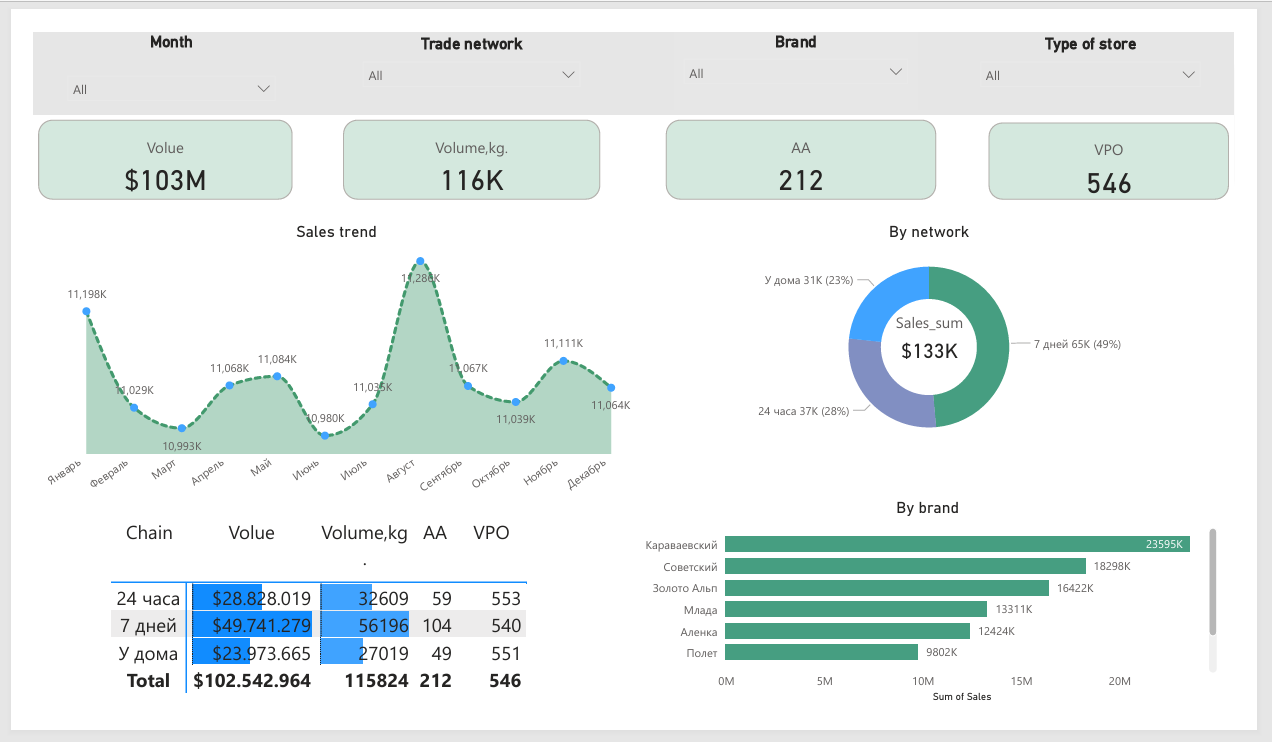

The dashboard page shown, as its layout file describes it:
{"tool":"powerbi","page":{"name":"Страница 1","canvas":[1280,720],"ordinal":0},"visuals":[{"type":"donutChart","title":"По сетям","fields":{"Category":["Customer.Chain"],"Y":["CountNonNull(Sales.Q-ty)"]},"box":[693.5,202.8,522.6,248.8],"z":0},{"type":"areaChart","title":"Тренд продаж","fields":{"Category":["Calendar.Date.Изменение.Иерархия дат.Месяц"],"Y":["CountNonNull(Sales.Sales)"]},"box":[4.9,203.3,636.1,309.3],"z":1000},{"type":"shape","box":[0,1,1280,87.5],"z":2000},{"type":"slicer","title":"Месяц","fields":{"Values":["Calendar.Date.Изменение.Иерархия дат.Месяц"]},"box":[26.3,0,242.2,80.7],"z":3000},{"type":"slicer","title":"Торговая сеть","fields":{"Values":["Customer.Chain"]},"box":[341.4,2.9,251.9,80.7],"z":4000},{"type":"slicer","title":"Тип магазина","fields":{"Values":["Customer.Type"]},"box":[998.9,2.9,254.8,80.7],"z":5000},{"type":"slicer","title":"Бренд ","fields":{"Values":["Products.Brand"]},"box":[682.8,0,259.7,83.6],"z":6000},{"type":"barChart","title":"По брендам","fields":{"Category":["Products.Brand"],"Y":["Sum(Sales.Sales)"]},"box":[640,497,626.4,223.7],"z":7000},{"type":"cardVisual","fields":{"Data":["Measure.Value"]},"box":[0,89.5,281.1,95.3],"z":8000},{"type":"cardVisual","fields":{"Data":["Measure.AA"]},"box":[669.2,89.5,298.6,95.3],"z":9000},{"type":"cardVisual","fields":{"Data":["Measure.VPO"]},"box":[1013.5,92.4,266.5,92.4],"z":10000},{"type":"cardVisual","fields":{"Data":["Measure.Volume,кг."]},"box":[324.9,88.5,285,95.3],"z":12000},{"type":"cardVisual","fields":{"Data":["Measure.Sales_sum"]},"box":[887.1,282.1,136.2,89.5],"z":12001},{"type":"pivotTable","fields":{"Rows":["Customer.Chain"],"Values":["Measure.Volue","Measure.Volume,кг.","Measure.AA","Measure.VPO"]},"box":[77.8,512.6,495.1,198.4],"z":12002}]}

Visuals, with their boxes on the page's 1280x720 design canvas (x1, y1, x2, y2). These are canvas units, not pixel positions in the 1272x742 screenshot, which may show the page scaled, cropped or inside an application window:
"По сетям" donutChart: left=694, top=203, right=1216, bottom=452
"Тренд продаж" areaChart: left=5, top=203, right=641, bottom=513
shape: left=0, top=1, right=1280, bottom=88
"Месяц" slicer: left=26, top=0, right=268, bottom=81
"Торговая сеть" slicer: left=341, top=3, right=593, bottom=84
"Тип магазина" slicer: left=999, top=3, right=1254, bottom=84
"Бренд " slicer: left=683, top=0, right=942, bottom=84
"По брендам" barChart: left=640, top=497, right=1266, bottom=721
cardVisual - Measure.Value: left=0, top=90, right=281, bottom=185
cardVisual - Measure.AA: left=669, top=90, right=968, bottom=185
cardVisual - Measure.VPO: left=1014, top=92, right=1280, bottom=185
cardVisual - Measure.Volume,кг.: left=325, top=88, right=610, bottom=184
cardVisual - Measure.Sales_sum: left=887, top=282, right=1023, bottom=372
pivotTable - Customer.Chain x Measure.Volue: left=78, top=513, right=573, bottom=711
